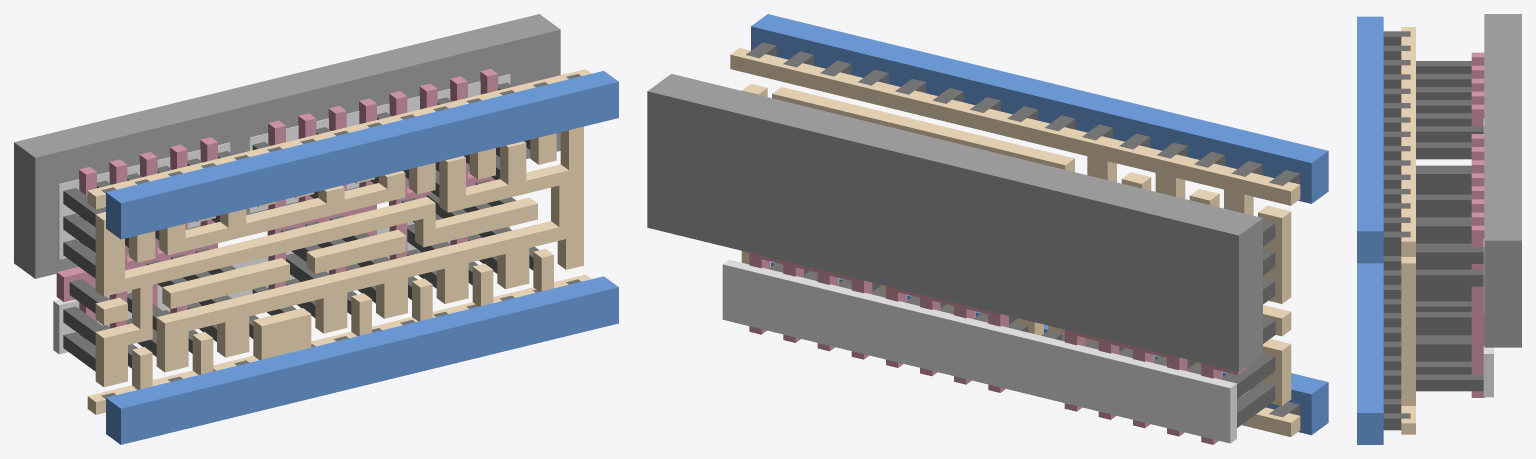
The model's file is sky130_fd_sc_hd__nor3b_4.gds.gltf.
3 renders of one model, left to right at view 1: azimuth 30°, elevation 25°; view 2: azimuth 150°, elevation 25°; view 3: azimuth 270°, elevation 25°, orthographic. The views are drawn at different scales.
Visible parts, largest first — view 1: sky130_fd_sc_hd__nor3b_4_li1, sky130_fd_sc_hd__nor3b_4_met1, sky130_fd_sc_hd__nor3b_4_nwell, sky130_fd_sc_hd__nor3b_4_licon, sky130_fd_sc_hd__nor3b_4_poly, sky130_fd_sc_hd__nor3b_4_diff, sky130_fd_sc_hd__nor3b_4_mcon; view 2: sky130_fd_sc_hd__nor3b_4_nwell, sky130_fd_sc_hd__nor3b_4_diff, sky130_fd_sc_hd__nor3b_4_li1, sky130_fd_sc_hd__nor3b_4_met1, sky130_fd_sc_hd__nor3b_4_poly, sky130_fd_sc_hd__nor3b_4_mcon, sky130_fd_sc_hd__nor3b_4_licon; view 3: sky130_fd_sc_hd__nor3b_4_licon, sky130_fd_sc_hd__nor3b_4_nwell, sky130_fd_sc_hd__nor3b_4_met1, sky130_fd_sc_hd__nor3b_4_mcon, sky130_fd_sc_hd__nor3b_4_li1, sky130_fd_sc_hd__nor3b_4_poly, sky130_fd_sc_hd__nor3b_4_diff.
Boxes of the visible parts, box(x1,y1,x2,y2) form: sky130_fd_sc_hd__nor3b_4_li1: box(87, 69, 591, 414); sky130_fd_sc_hd__nor3b_4_met1: box(106, 71, 618, 444); sky130_fd_sc_hd__nor3b_4_nwell: box(14, 14, 560, 278); sky130_fd_sc_hd__nor3b_4_licon: box(63, 82, 538, 371); sky130_fd_sc_hd__nor3b_4_poly: box(56, 69, 498, 346); sky130_fd_sc_hd__nor3b_4_diff: box(53, 74, 510, 354); sky130_fd_sc_hd__nor3b_4_mcon: box(101, 74, 581, 398); sky130_fd_sc_hd__nor3b_4_nwell: box(647, 74, 1262, 371); sky130_fd_sc_hd__nor3b_4_diff: box(722, 259, 1236, 443); sky130_fd_sc_hd__nor3b_4_li1: box(730, 48, 1300, 436); sky130_fd_sc_hd__nor3b_4_met1: box(751, 14, 1328, 435); sky130_fd_sc_hd__nor3b_4_poly: box(749, 252, 1246, 444); sky130_fd_sc_hd__nor3b_4_mcon: box(746, 42, 1299, 417); sky130_fd_sc_hd__nor3b_4_licon: box(770, 220, 1275, 427); sky130_fd_sc_hd__nor3b_4_licon: box(1416, 61, 1483, 391); sky130_fd_sc_hd__nor3b_4_nwell: box(1484, 14, 1521, 347); sky130_fd_sc_hd__nor3b_4_met1: box(1357, 16, 1383, 444); sky130_fd_sc_hd__nor3b_4_mcon: box(1383, 31, 1410, 430); sky130_fd_sc_hd__nor3b_4_li1: box(1401, 27, 1415, 434); sky130_fd_sc_hd__nor3b_4_poly: box(1471, 52, 1484, 397); sky130_fd_sc_hd__nor3b_4_diff: box(1483, 118, 1493, 397).
Bounding box in the file's own units: 7.28 × 3.2 × 2.24.
